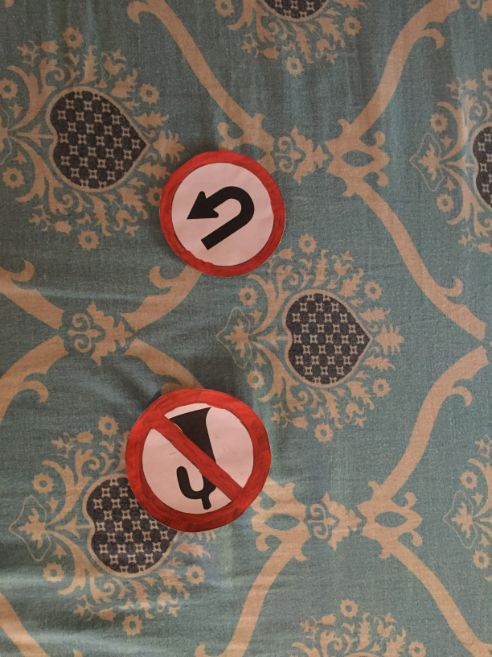no-horn: (114, 386, 263, 535)
u-turn: (154, 147, 284, 277)
